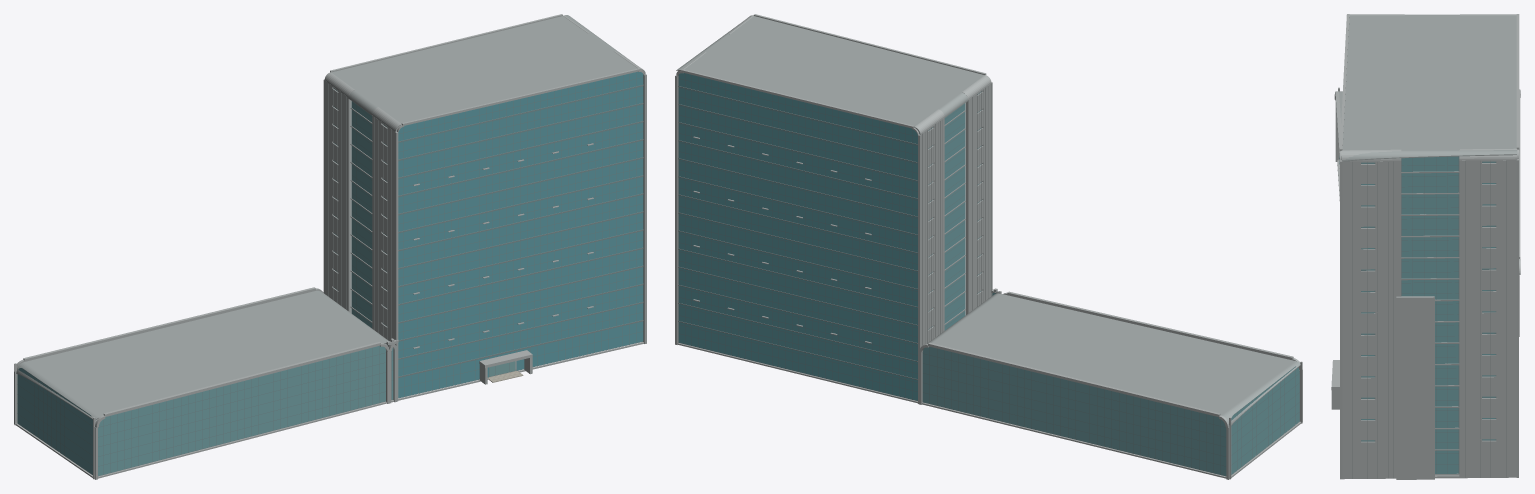
3 views of the same model, side by side, from view 1: azimuth 30°, elevation 25°; view 2: azimuth 150°, elevation 25°; view 3: azimuth 270°, elevation 25° (orthographic). The views are drawn at different scales.
Parts seen in each view (by area): view 1: anniversary60__glass, anniversary60__roof, anniversary60__sideglass, anniversary60__frame, anniversary60__wall-metal, anniversary60__panel-joint; view 2: anniversary60__glass, anniversary60__roof, anniversary60__sideglass, anniversary60__frame, anniversary60__wall-metal, anniversary60__panel-joint; view 3: anniversary60__wall-metal, anniversary60__roof, anniversary60__sideglass, anniversary60__frame, anniversary60__panel-joint.
Boxes of the visible parts, <box> form: anniversary60__glass: <box>397,71,643,397</box>; anniversary60__roof: <box>16,15,637,421</box>; anniversary60__sideglass: <box>17,88,393,475</box>; anniversary60__frame: <box>17,72,643,476</box>; anniversary60__wall-metal: <box>14,14,646,479</box>; anniversary60__panel-joint: <box>328,84,391,345</box>; anniversary60__glass: <box>678,73,919,400</box>; anniversary60__roof: <box>676,16,1300,425</box>; anniversary60__sideglass: <box>922,91,1299,475</box>; anniversary60__frame: <box>678,73,1299,476</box>; anniversary60__wall-metal: <box>675,14,1302,479</box>; anniversary60__panel-joint: <box>922,86,988,345</box>; anniversary60__wall-metal: <box>1331,14,1520,479</box>; anniversary60__roof: <box>1339,14,1517,475</box>; anniversary60__sideglass: <box>1339,156,1495,473</box>; anniversary60__frame: <box>1361,156,1496,473</box>; anniversary60__panel-joint: <box>1352,160,1506,478</box>.
Size of the model in its own units: 126 by 59.58 by 31.27.
Materials: 8 (1 with a texture image).
